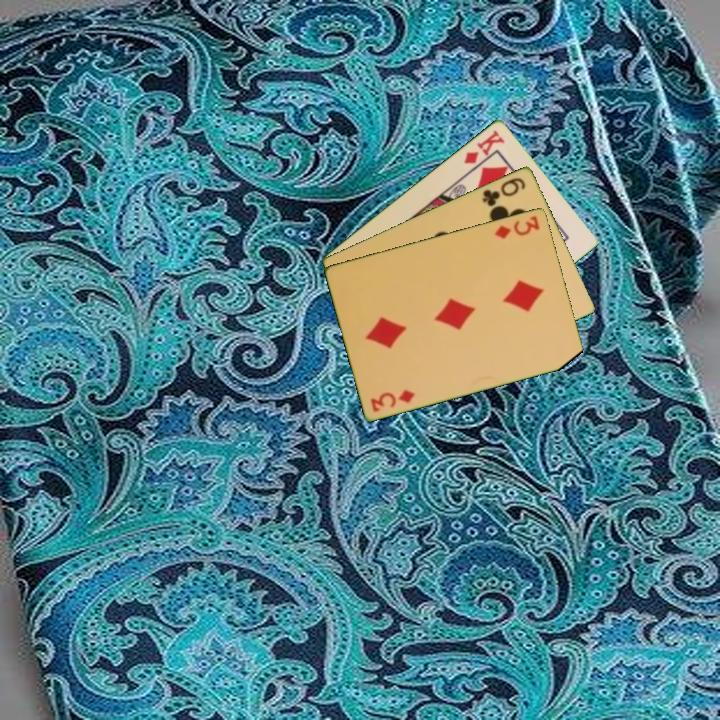3d: (491, 212, 543, 241), (367, 386, 418, 414)
6c: (479, 174, 529, 209)
Kd: (460, 126, 508, 166)
